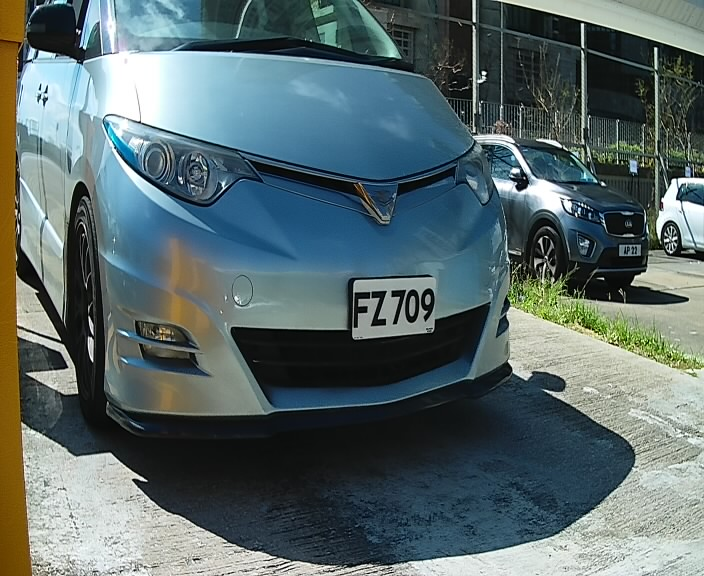License Plate: (338, 266, 454, 353)
